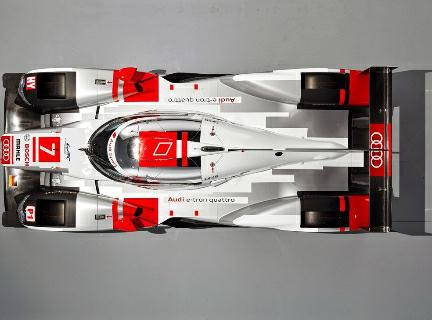奥迪-R18: (2, 58, 402, 241)
